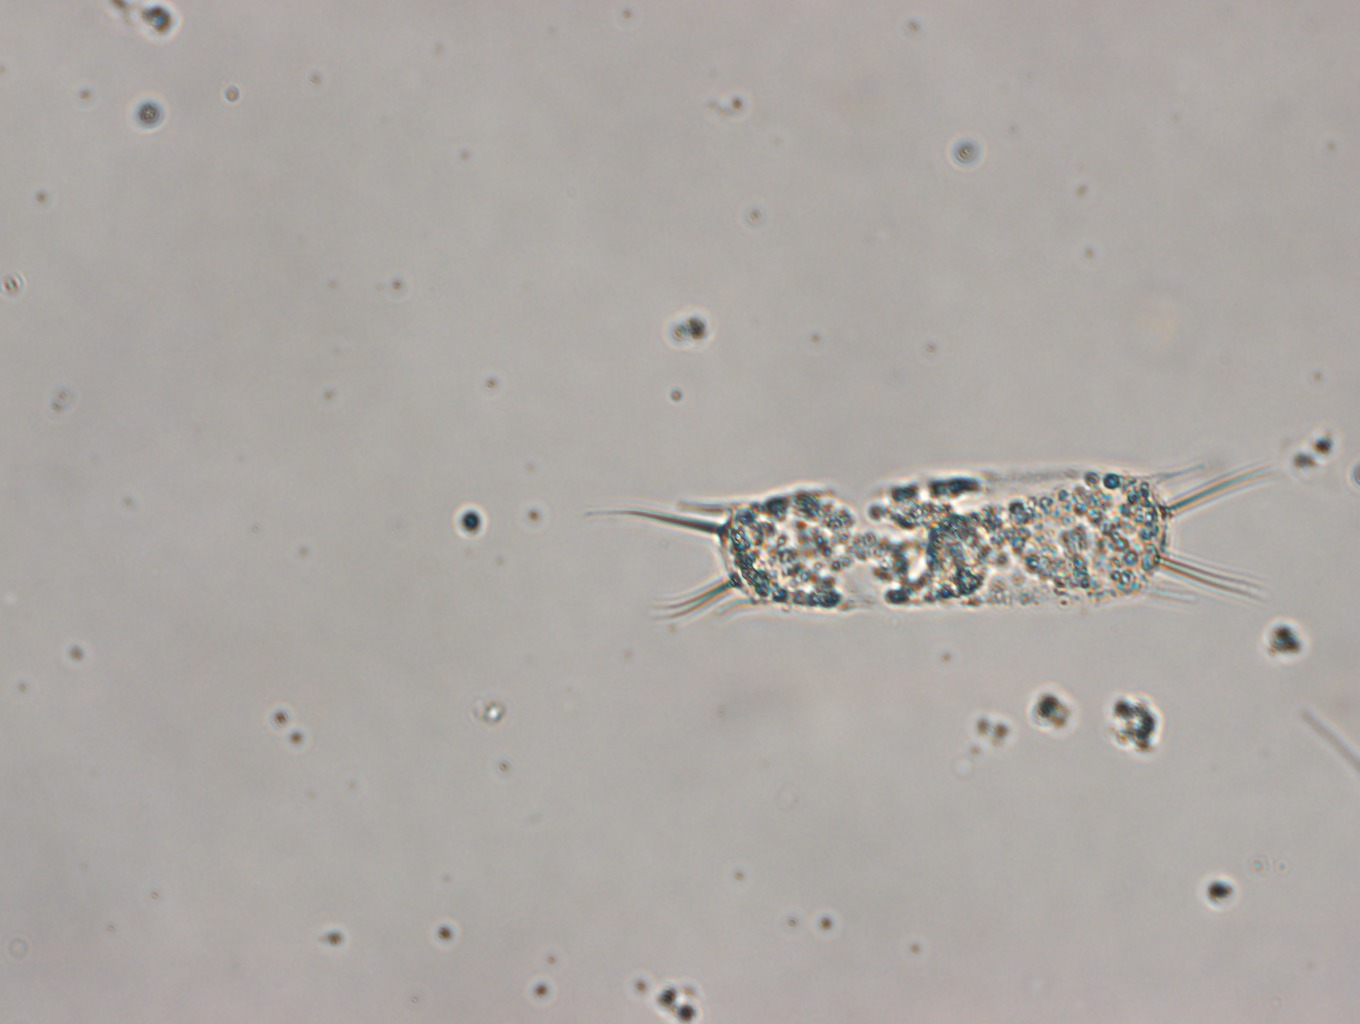biddulphia: (577, 458, 1276, 620)
